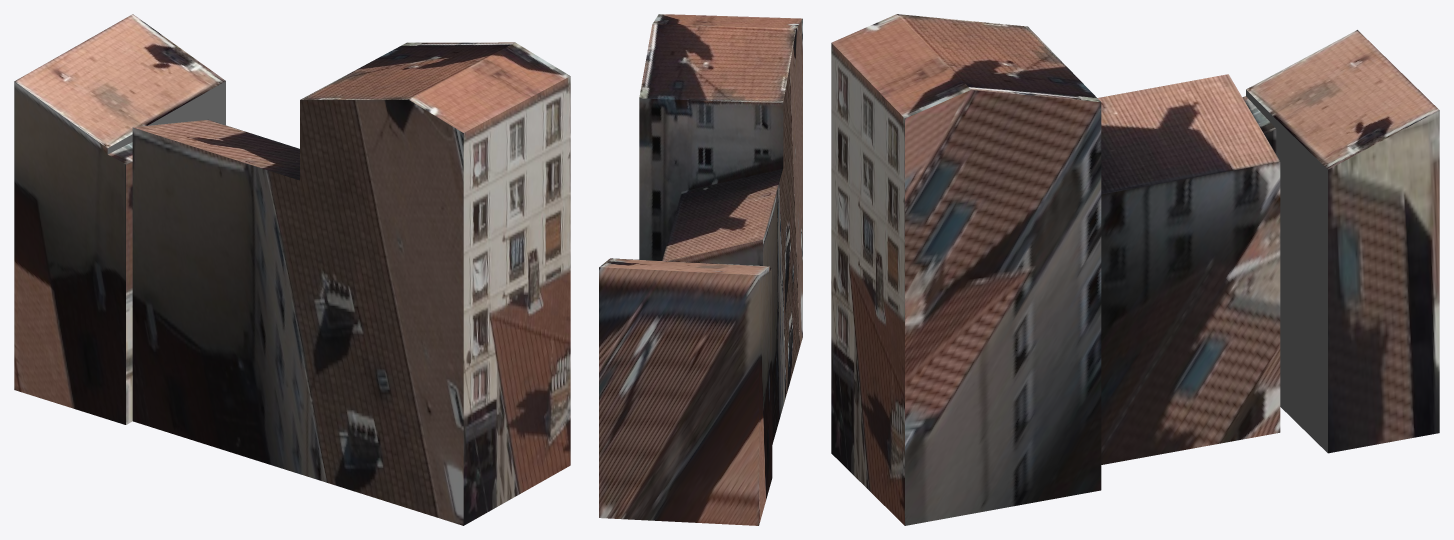
The picture shows the model from 3 angles, left to right: view 1: azimuth 30°, elevation 25°; view 2: azimuth 150°, elevation 25°; view 3: azimuth 270°, elevation 25°; orthographic projection. The views are drawn at different scales.
Parts seen in each view (by area): view 1: Z_UP; view 2: Z_UP; view 3: Z_UP.
Boxes of the visible parts, left/top/right/bottom form: Z_UP: left=14, top=14, right=570, bottom=525; Z_UP: left=599, top=14, right=802, bottom=525; Z_UP: left=831, top=14, right=1439, bottom=525.
Size of the model in its own units: 19.36 by 22.26 by 28.7.
2 materials, 1 textured.
